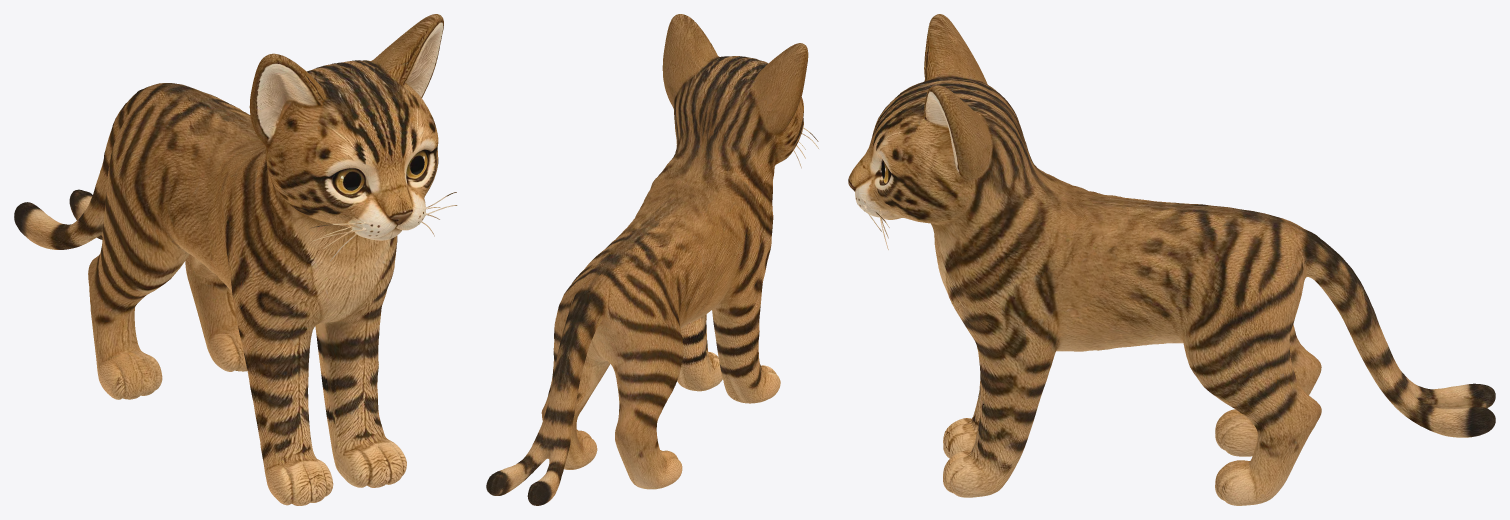
File: meshy-sokoke.glb
3 views of the same model, side by side, from view 1: azimuth 30°, elevation 25°; view 2: azimuth 150°, elevation 25°; view 3: azimuth 270°, elevation 25° (orthographic). The views are drawn at different scales.
Visible parts, largest first — view 1: Mesh_0; view 2: Mesh_0; view 3: Mesh_0.
Part boxes in pixels (x1=…): Mesh_0: x1=14, y1=14, x2=457, y2=505; Mesh_0: x1=486, y1=14, x2=818, y2=505; Mesh_0: x1=848, y1=14, x2=1495, y2=505.
Bounding box in the file's own units: 0.5681 × 1.37 × 1.9.
1 material, 1 textured.
